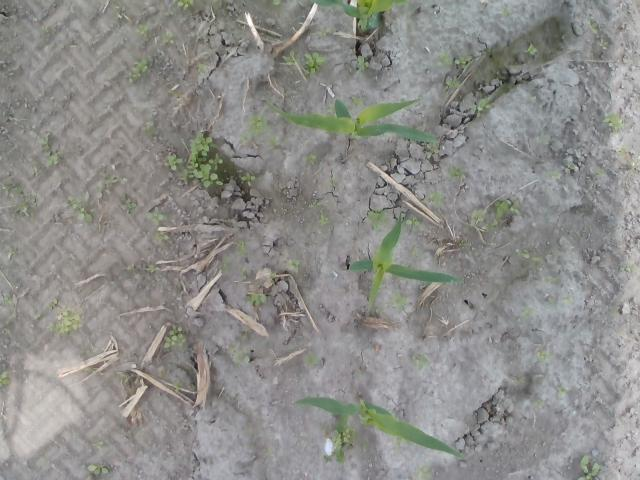Maize: (291, 395, 465, 458), (349, 212, 458, 308), (266, 96, 440, 145), (311, 0, 408, 33)
Weeds: (163, 130, 224, 190), (468, 197, 522, 233), (0, 179, 40, 223), (238, 111, 280, 151), (45, 299, 82, 339), (36, 129, 64, 167), (64, 192, 95, 224), (95, 175, 128, 200), (334, 427, 368, 450), (302, 50, 328, 80), (304, 199, 329, 230), (396, 207, 424, 234), (162, 324, 188, 352), (128, 56, 151, 86), (577, 453, 602, 480), (366, 207, 390, 234), (227, 342, 251, 368), (600, 110, 625, 134), (514, 248, 546, 266), (164, 0, 195, 17), (144, 205, 167, 227), (470, 94, 490, 118), (389, 286, 411, 306), (617, 142, 635, 166), (409, 352, 432, 370), (111, 0, 128, 24), (87, 463, 111, 480), (120, 192, 136, 217), (408, 240, 428, 260), (237, 168, 256, 188), (136, 21, 154, 42), (244, 290, 266, 306), (428, 191, 446, 210), (158, 30, 178, 47), (536, 350, 554, 368), (282, 48, 300, 66), (453, 55, 472, 72), (0, 366, 12, 392), (31, 160, 49, 177), (317, 25, 337, 40), (518, 304, 536, 320), (414, 464, 432, 480), (232, 238, 248, 256), (432, 50, 450, 66), (356, 54, 370, 74), (256, 0, 284, 10), (446, 166, 464, 181), (333, 448, 348, 464), (425, 143, 440, 159), (303, 152, 320, 166), (144, 120, 158, 137), (586, 16, 600, 33), (220, 255, 232, 274), (0, 292, 19, 304), (302, 354, 321, 366), (286, 258, 302, 272), (389, 434, 405, 448), (544, 166, 560, 180), (454, 238, 472, 250), (256, 447, 274, 459), (625, 257, 639, 272), (154, 230, 173, 241), (556, 383, 568, 400), (352, 95, 368, 107), (446, 79, 464, 89), (167, 88, 184, 98), (512, 374, 526, 386), (240, 268, 254, 280), (195, 62, 209, 73), (368, 306, 386, 314), (560, 292, 572, 304), (292, 16, 306, 26), (266, 271, 278, 282), (318, 423, 329, 435), (322, 454, 333, 465), (526, 44, 537, 55), (599, 39, 610, 50), (4, 319, 11, 336), (145, 264, 158, 273), (175, 380, 184, 393), (84, 367, 97, 376), (327, 174, 335, 188), (127, 262, 138, 272), (39, 24, 50, 34), (594, 168, 606, 177), (544, 297, 557, 305), (566, 160, 576, 170), (95, 440, 105, 449), (501, 8, 512, 16), (536, 400, 546, 408), (6, 248, 16, 256), (451, 92, 462, 96), (300, 35, 306, 41), (191, 384, 196, 391), (288, 31, 292, 36)
